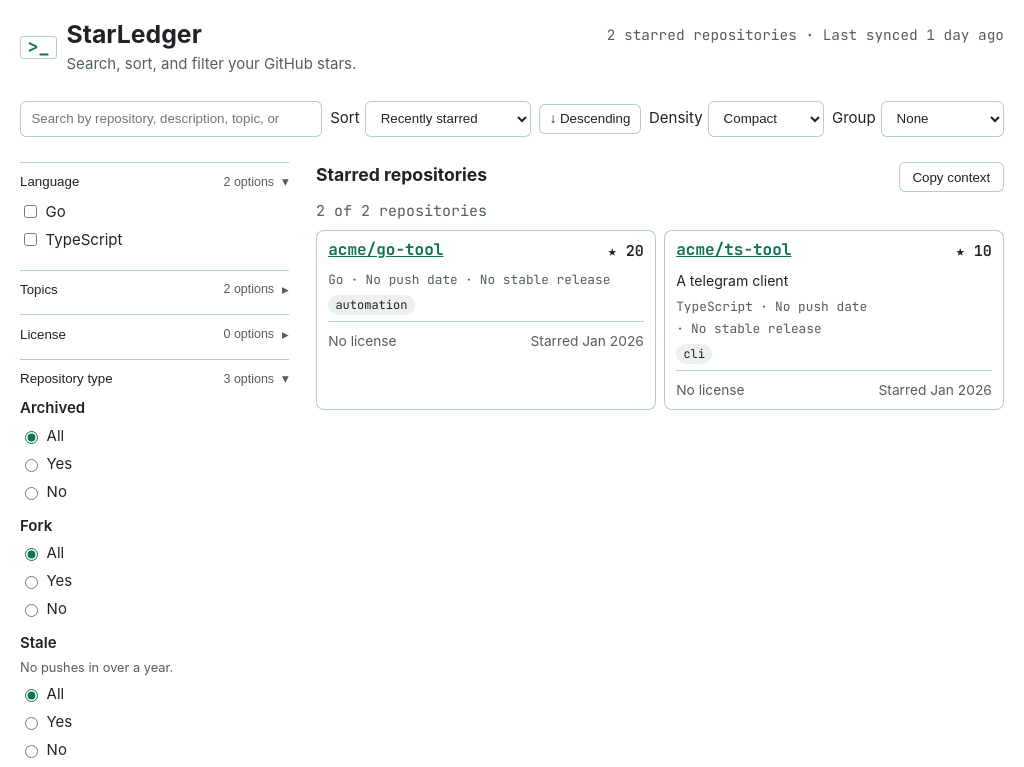
it: RepositoryView › keeps long filter sections collapsed until requested
Click the button "Topics 2 options ▸" at (39, 289), box [20,271,289,308]
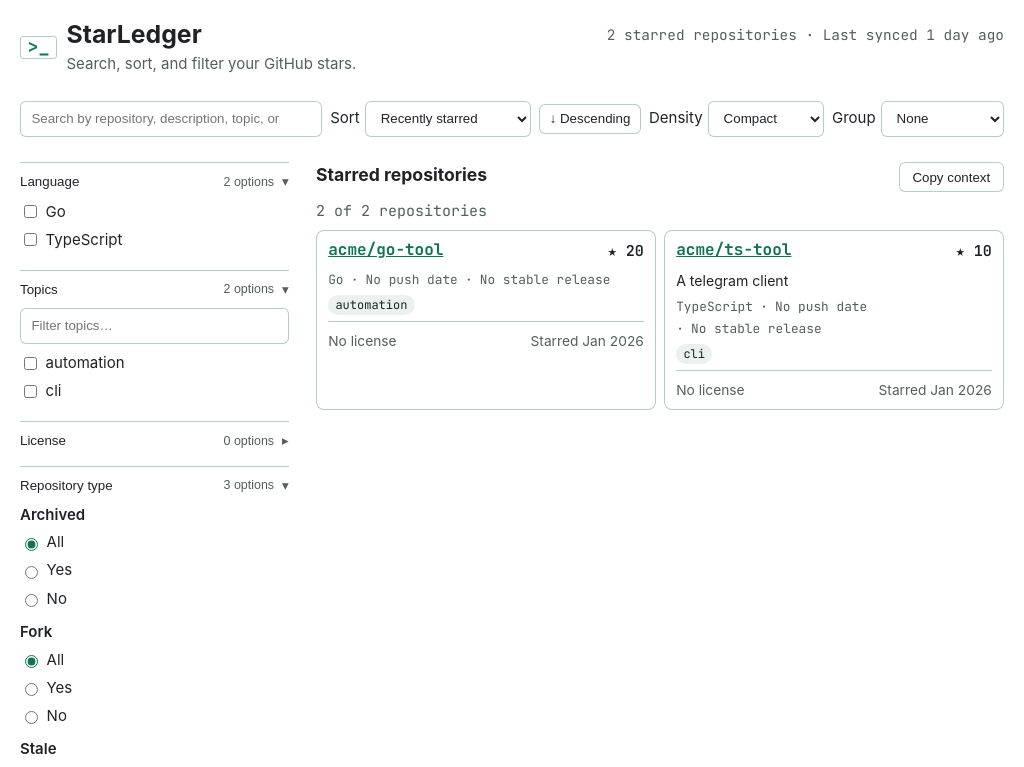
expect the checkbox labelled "automation" is shown: met, box [24,357,37,370]
